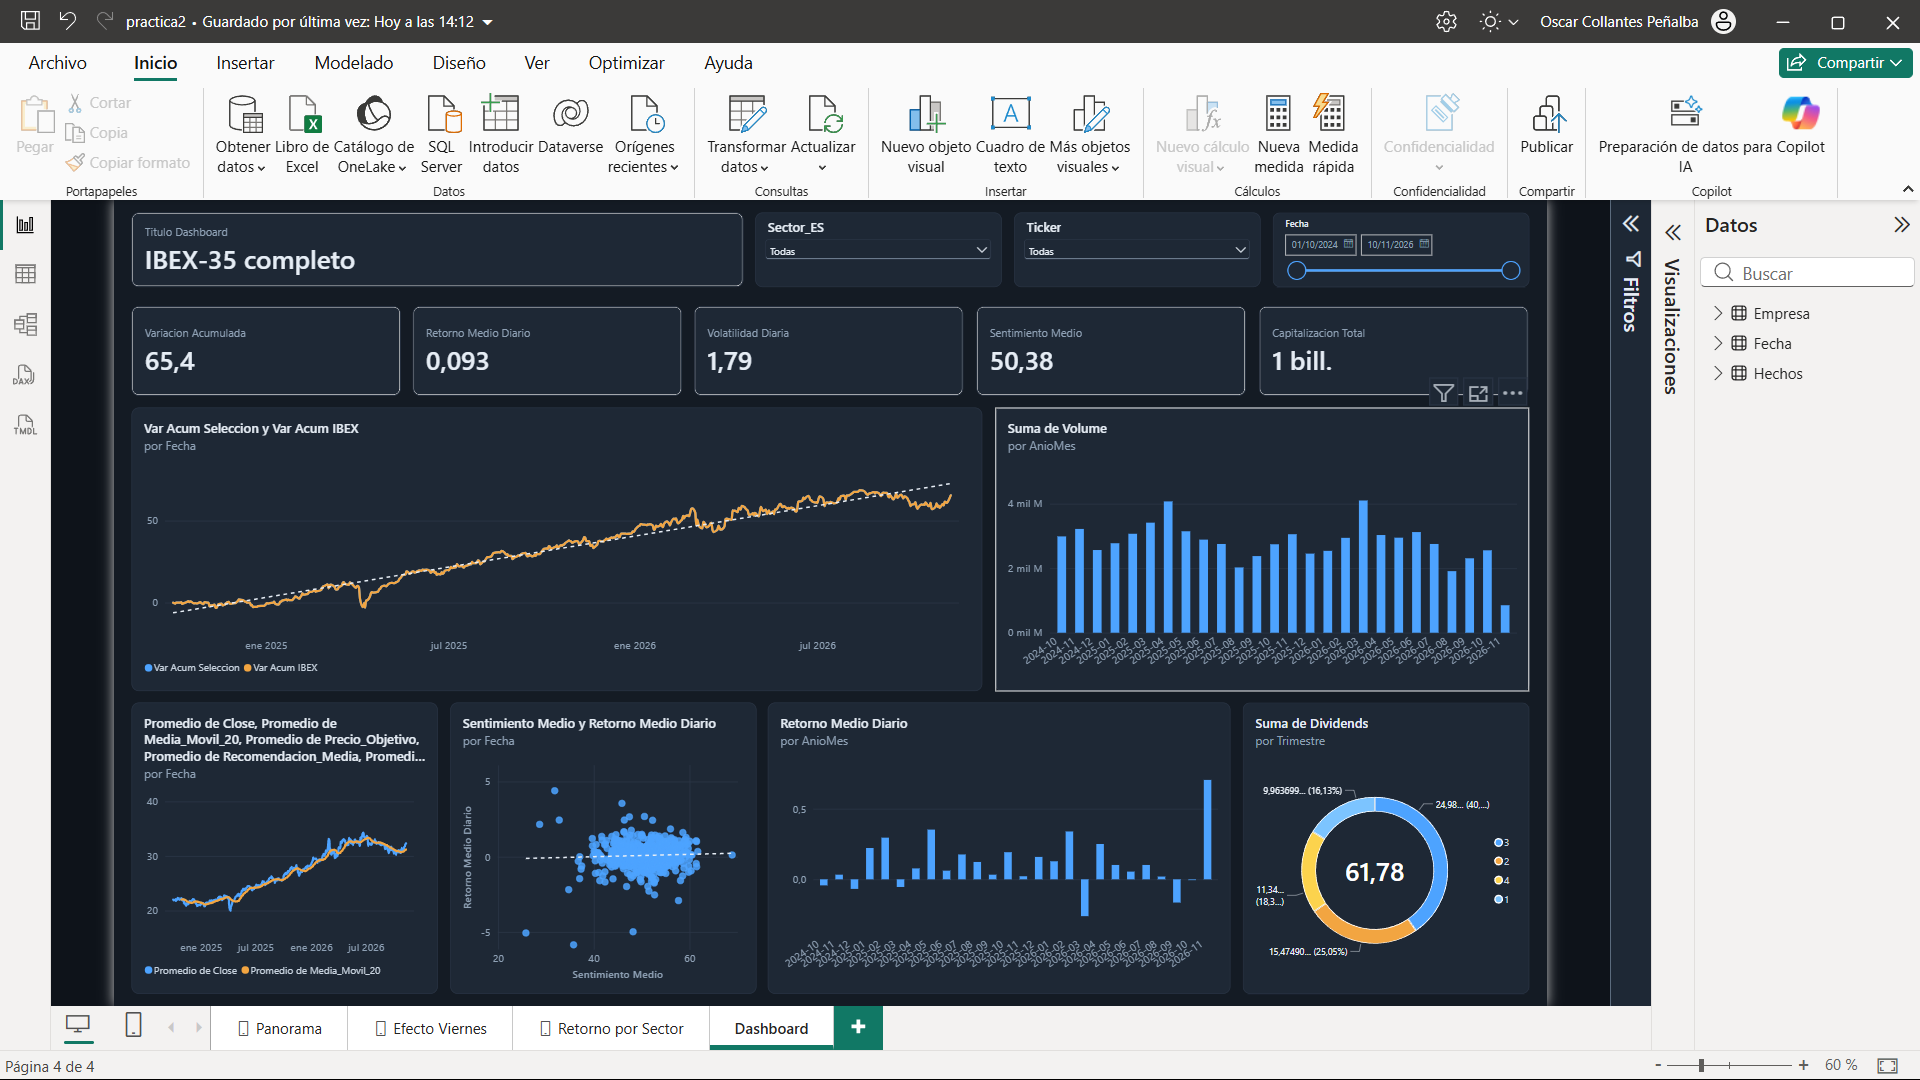

The dashboard page shown, as its layout file describes it:
{"tool":"powerbi","page":{"name":"Dashboard","canvas":[1920,1080],"ordinal":3},"visuals":[{"type":"slicer","fields":{"Values":["Empresa.Sector_ES"]},"box":[753.5,31.4,280.8,68],"z":0},{"type":"slicer","fields":{"Values":["Empresa.Ticker"]},"box":[1055.2,26.2,280.8,80.2],"z":1000},{"type":"slicer","fields":{"Values":["Fecha.Fecha"]},"box":[1360.5,19.2,280.8,95.9],"z":2000},{"type":"cardVisual","fields":{"Data":["Hechos.Variacion Acumulada"]},"box":[36.6,115.1,218,174.4],"z":3000},{"type":"cardVisual","fields":{"Data":["Hechos.Retorno Medio Diario"]},"box":[375,115.1,218,174.4],"z":4000},{"type":"cardVisual","fields":{"Data":["Hechos.Volatilidad Diaria"]},"box":[741.3,115.1,218,174.4],"z":5000},{"type":"cardVisual","fields":{"Data":["Hechos.Sentimiento Medio"]},"box":[1088.4,115.1,218,174.4],"z":6000},{"type":"cardVisual","fields":{"Data":["Hechos.Capitalizacion Total"]},"box":[1447.7,115.1,218,174.4],"z":7000},{"type":"lineChart","fields":{"Category":["Fecha.Fecha"],"Y":["Hechos.Var Acum Seleccion","Hechos.Var Acum IBEX"]},"box":[43.6,314,1058.7,376.7],"z":8000},{"type":"clusteredColumnChart","fields":{"Category":["Fecha.AnioMes"],"Y":["Sum(Hechos.Volume)"]},"box":[1133.7,314,736,376.7],"z":9000},{"type":"lineChart","fields":{"Category":["Fecha.Fecha"],"Y":["Avg(Hechos.Close)","Avg(Hechos.Media_Movil_20)"]},"box":[66.3,711.6,395.9,322.7],"z":10000},{"type":"scatterChart","fields":{"Category":["Fecha.Fecha"],"X":["Hechos.Sentimiento Medio"],"Y":["Hechos.Retorno Medio Diario"]},"box":[462.2,711.6,444.8,322.7],"z":11000},{"type":"clusteredColumnChart","fields":{"Category":["Fecha.AnioMes"],"Y":["Hechos.Retorno Medio Diario"]},"box":[907,711.6,610.5,322.7],"z":12000},{"type":"donutChart","fields":{"Category":["Fecha.Trimestre"],"Y":["Sum(Hechos.Dividends)"]},"box":[1517.4,711.6,385.5,322.7],"z":13000},{"type":"cardVisual","fields":{"Data":["Hechos.Titulo Dashboard"]},"box":[66.3,19.2,556.4,75],"z":13001}]}

Visuals, with their boxes on the page's 1920x1080 design canvas (x1, y1, x2, y2). These are canvas units, not pixel positions in the 1920x1080 screenshot, which may show the page scaled, cropped or inside an application window:
slicer - Empresa.Sector_ES: [left=754, top=31, right=1034, bottom=99]
slicer - Empresa.Ticker: [left=1055, top=26, right=1336, bottom=106]
slicer - Fecha.Fecha: [left=1360, top=19, right=1641, bottom=115]
cardVisual - Hechos.Variacion Acumulada: [left=37, top=115, right=255, bottom=290]
cardVisual - Hechos.Retorno Medio Diario: [left=375, top=115, right=593, bottom=290]
cardVisual - Hechos.Volatilidad Diaria: [left=741, top=115, right=959, bottom=290]
cardVisual - Hechos.Sentimiento Medio: [left=1088, top=115, right=1306, bottom=290]
cardVisual - Hechos.Capitalizacion Total: [left=1448, top=115, right=1666, bottom=290]
lineChart - Fecha.Fecha x Hechos.Var Acum Seleccion: [left=44, top=314, right=1102, bottom=691]
clusteredColumnChart - Fecha.AnioMes x Sum(Hechos.Volume): [left=1134, top=314, right=1870, bottom=691]
lineChart - Fecha.Fecha x Avg(Hechos.Close): [left=66, top=712, right=462, bottom=1034]
scatterChart - Fecha.Fecha x Hechos.Sentimiento Medio: [left=462, top=712, right=907, bottom=1034]
clusteredColumnChart - Fecha.AnioMes x Hechos.Retorno Medio Diario: [left=907, top=712, right=1518, bottom=1034]
donutChart - Fecha.Trimestre x Sum(Hechos.Dividends): [left=1517, top=712, right=1903, bottom=1034]
cardVisual - Hechos.Titulo Dashboard: [left=66, top=19, right=623, bottom=94]
